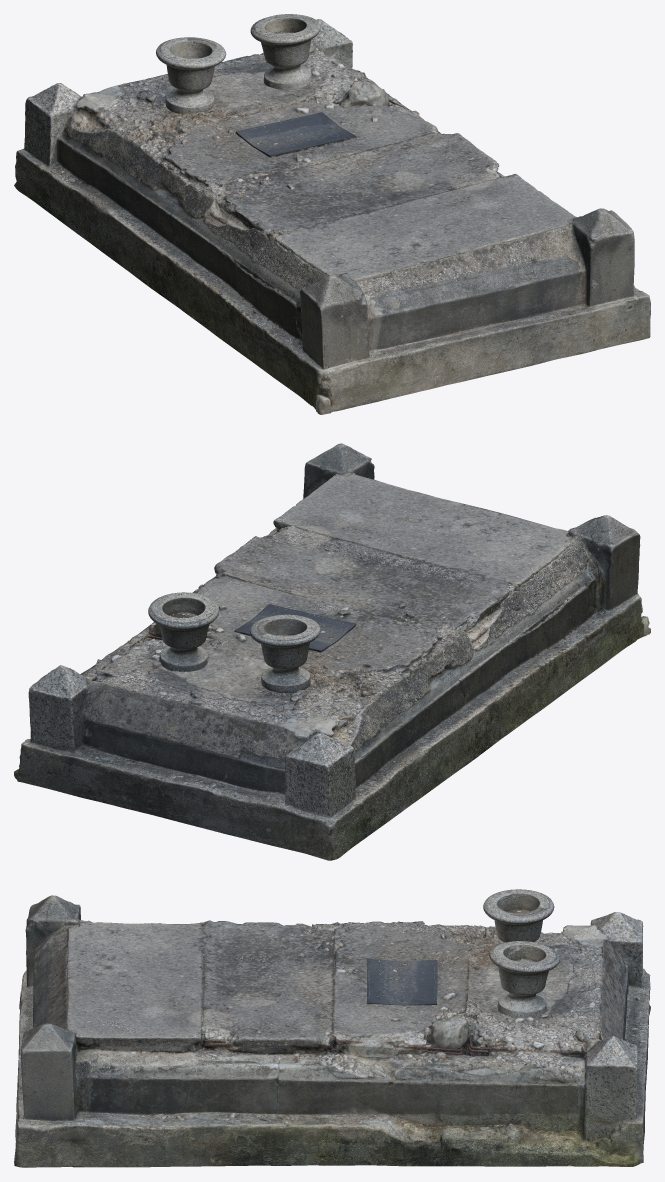
Rendered from sm_Grave_02_01.fbx.
3 views of the same model, one above another, from view 1: azimuth 30°, elevation 25°; view 2: azimuth 150°, elevation 25°; view 3: azimuth 270°, elevation 25° (orthographic).
Visible parts, largest first — view 1: sm_Grave_02_01_LOD0; view 2: sm_Grave_02_01_LOD0; view 3: sm_Grave_02_01_LOD0.
Part boxes in pixels (bbox=[...]): sm_Grave_02_01_LOD0: bbox=[14, 14, 650, 414]; sm_Grave_02_01_LOD0: bbox=[14, 443, 650, 860]; sm_Grave_02_01_LOD0: bbox=[14, 889, 650, 1167].
Bounding box in the file's own units: 152 × 250 × 69.2.
